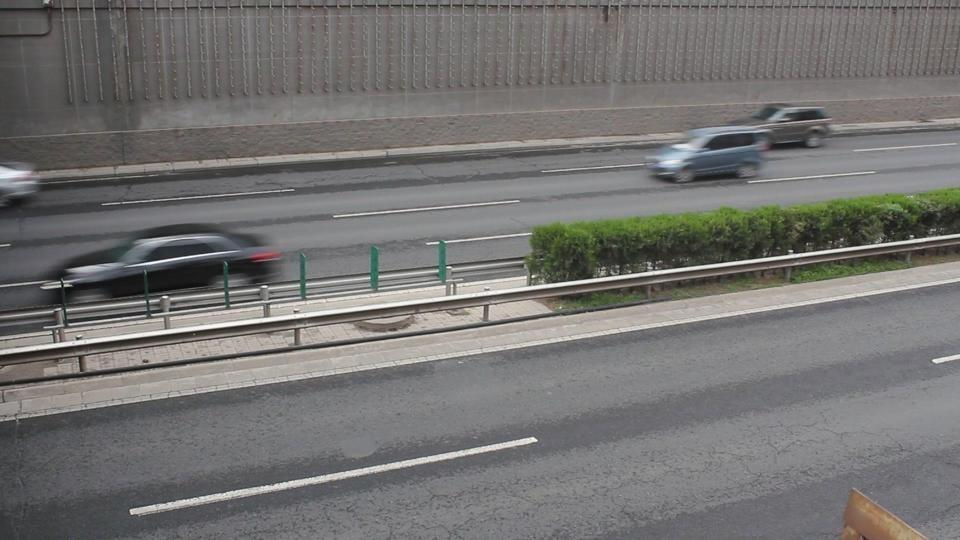car: (58, 227, 284, 294), (644, 128, 769, 185), (724, 104, 833, 149), (0, 160, 41, 208)
